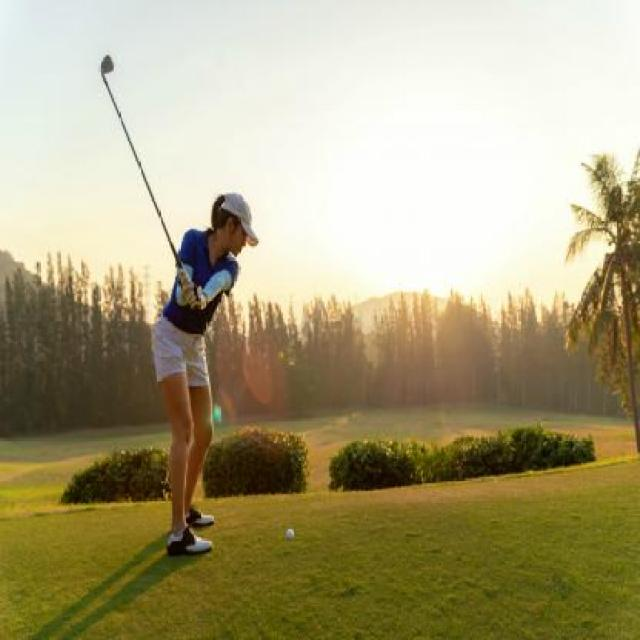club head: (98, 52, 115, 80)
